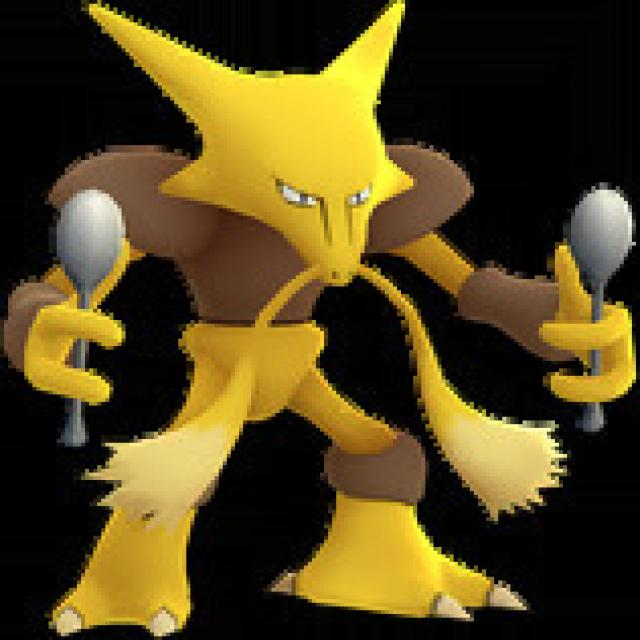Alakazam: (40, 29, 627, 622)
